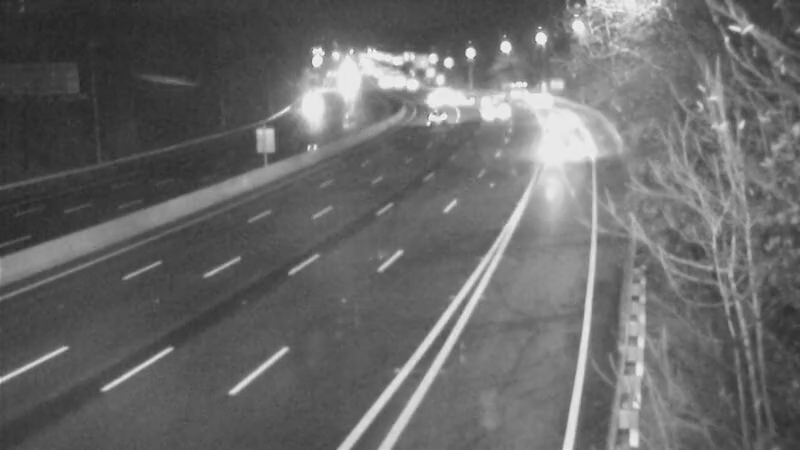vehicle: (488, 64, 538, 114), (417, 65, 467, 115), (408, 77, 458, 127), (508, 75, 558, 125), (459, 76, 509, 126), (467, 84, 517, 134), (532, 91, 582, 141), (411, 90, 461, 140), (541, 125, 591, 175), (279, 84, 329, 134)
